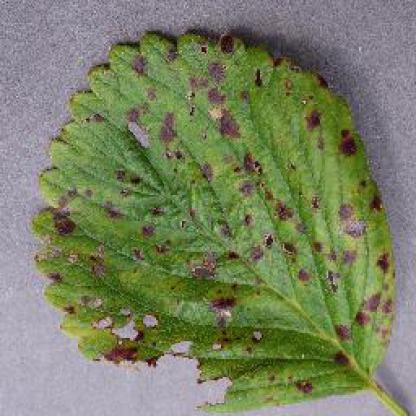leaf scorch: (26, 23, 406, 414)
